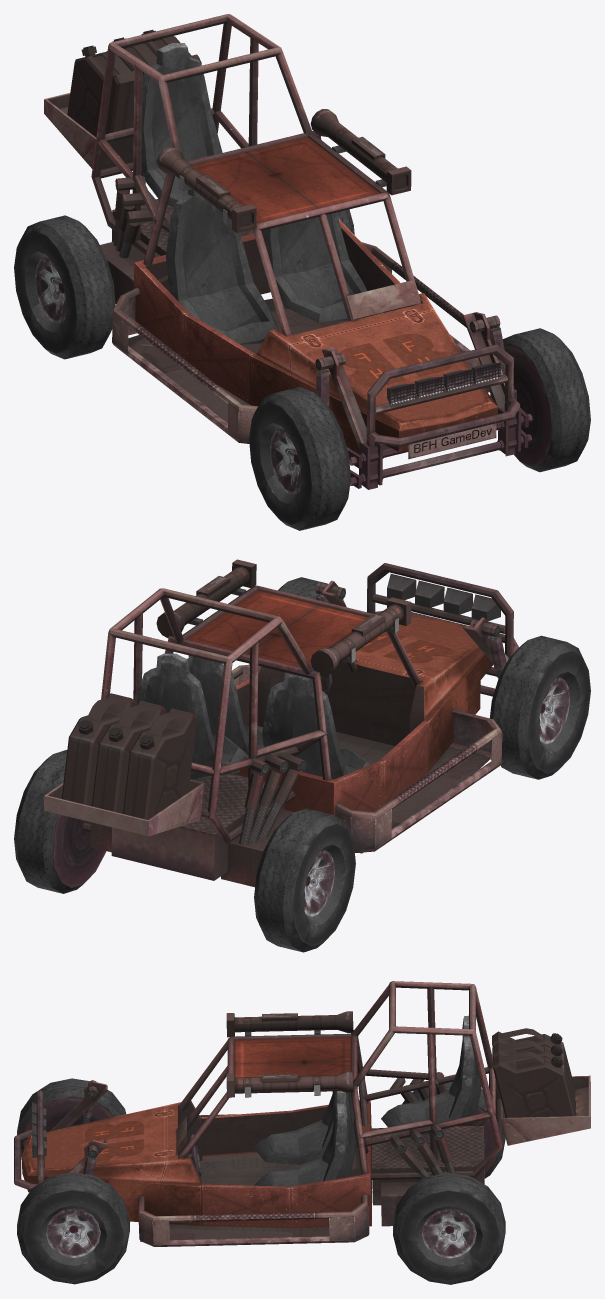
Rendered from BuggyBFH.fbx.
The picture shows the model from 3 angles, top to bottom: view 1: azimuth 30°, elevation 25°; view 2: azimuth 150°, elevation 25°; view 3: azimuth 270°, elevation 25°; orthographic projection. The views are drawn at different scales.
Parts seen in each view (by area): view 1: BuggyFrame, WheelFR, WheelBR, WheelFL; view 2: BuggyFrame, WheelBR, WheelFR, WheelBL, WheelFL; view 3: BuggyFrame, WheelFL, WheelBL, WheelFR, WheelBR.
Boxes of the visible parts, bbox=[...] form: BuggyFrame: bbox=[44, 14, 532, 489]; WheelFR: bbox=[249, 386, 350, 530]; WheelBR: bbox=[14, 215, 115, 359]; WheelFL: bbox=[489, 328, 590, 472]; BuggyFrame: bbox=[44, 559, 519, 887]; WheelBR: bbox=[254, 808, 355, 952]; WheelFR: bbox=[489, 635, 590, 779]; WheelBL: bbox=[14, 750, 106, 893]; WheelFL: bbox=[249, 577, 346, 664]; BuggyFrame: bbox=[14, 981, 590, 1246]; WheelFL: bbox=[17, 1172, 129, 1284]; WheelBL: bbox=[393, 1172, 505, 1284]; WheelFR: bbox=[17, 1078, 126, 1159]; WheelBR: bbox=[402, 1081, 505, 1178].
Size of the model in its own units: 198 by 194 by 444.
Materials: 1 (1 with a texture image).
